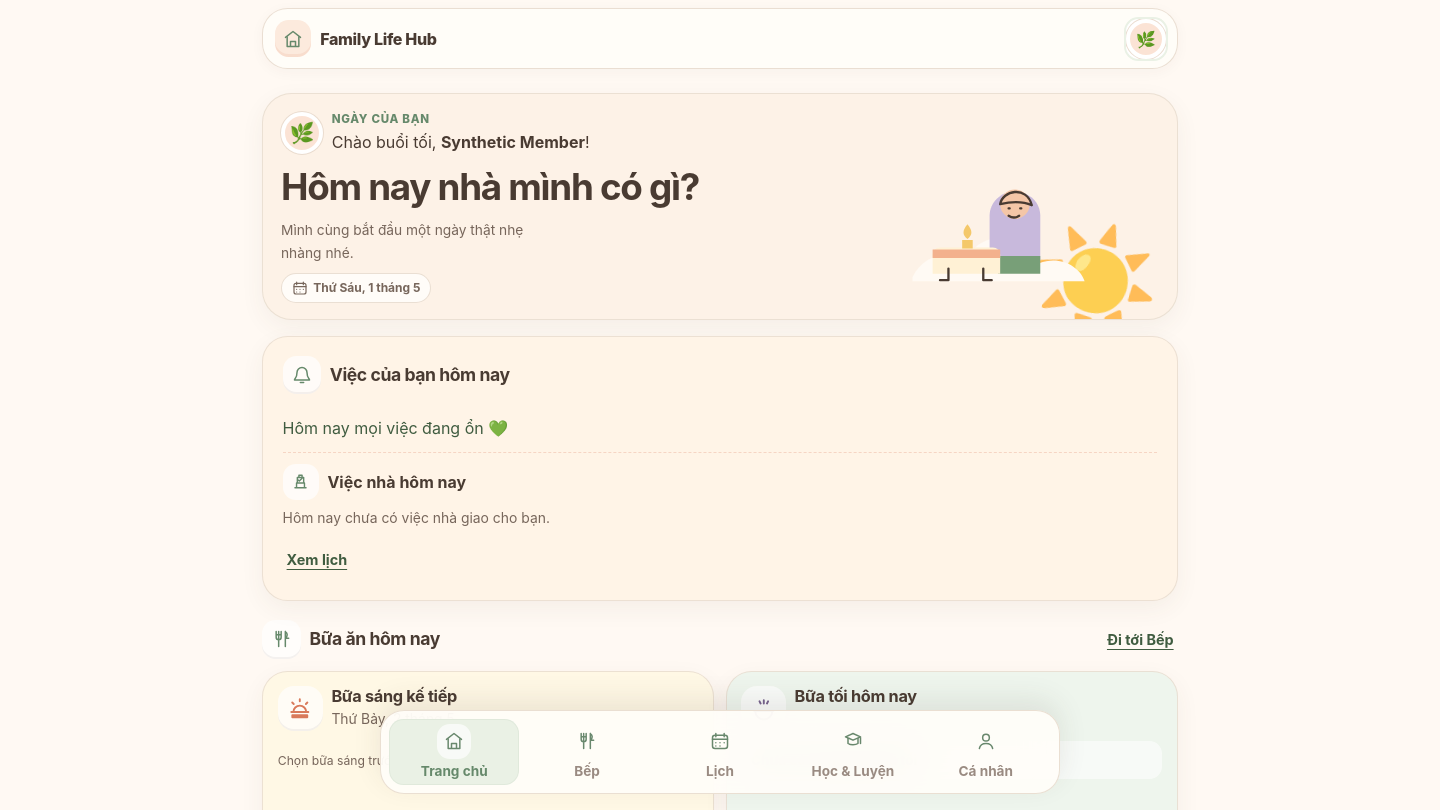
Test: AuthFlow › logs out, clears the in-memory profile, and reloads profile choices
Expected: the heading "Hôm nay nhà mình có gì?" is shown, [281,164,699,209]
Step 1. Click the button "Cá nhân" → click(986, 752), box [920,719,1051,785]
(page scrolled)
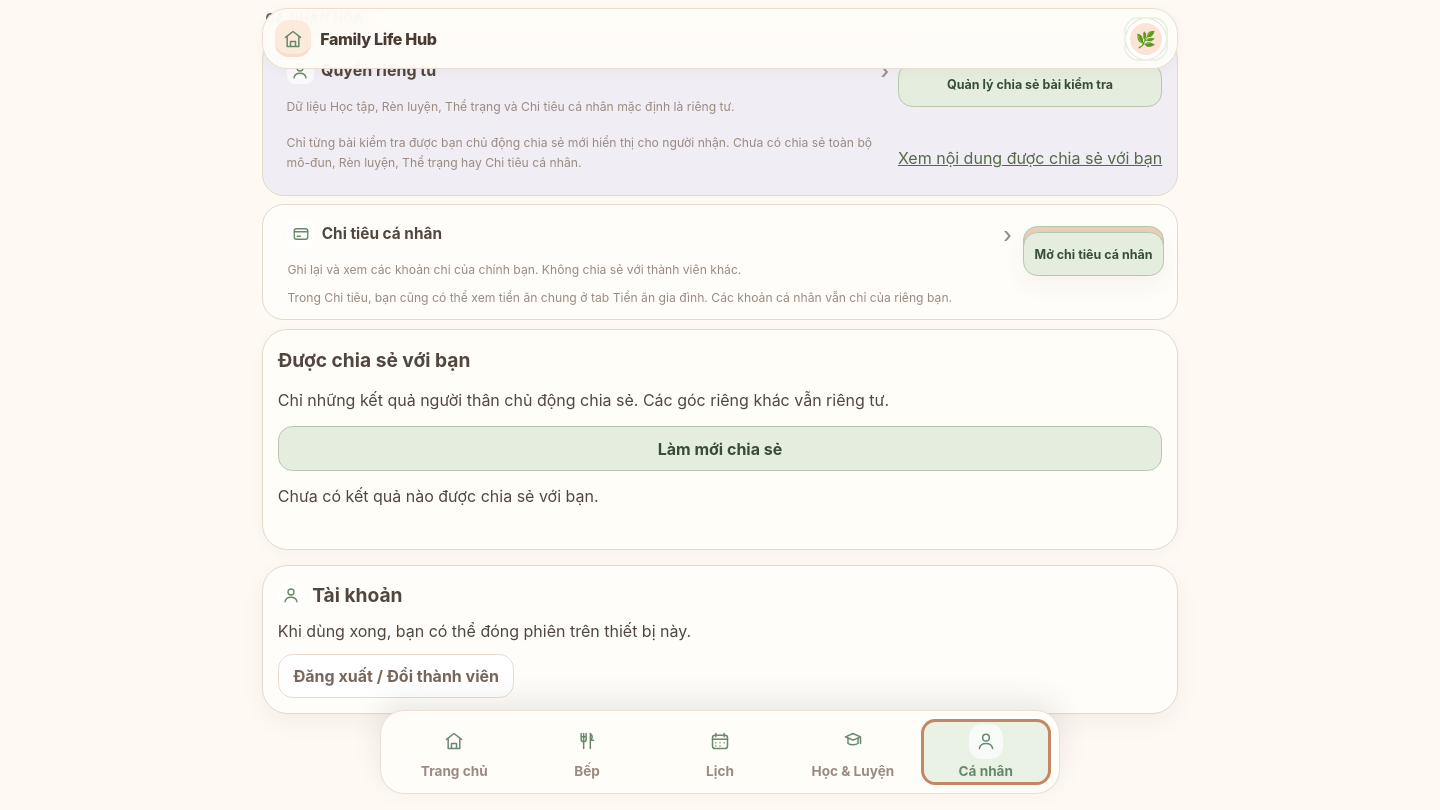
Step 2. Click the button "Đăng xuất / Đổi thành viên" → click(396, 676), box [278,654,514,698]
(page scrolled)
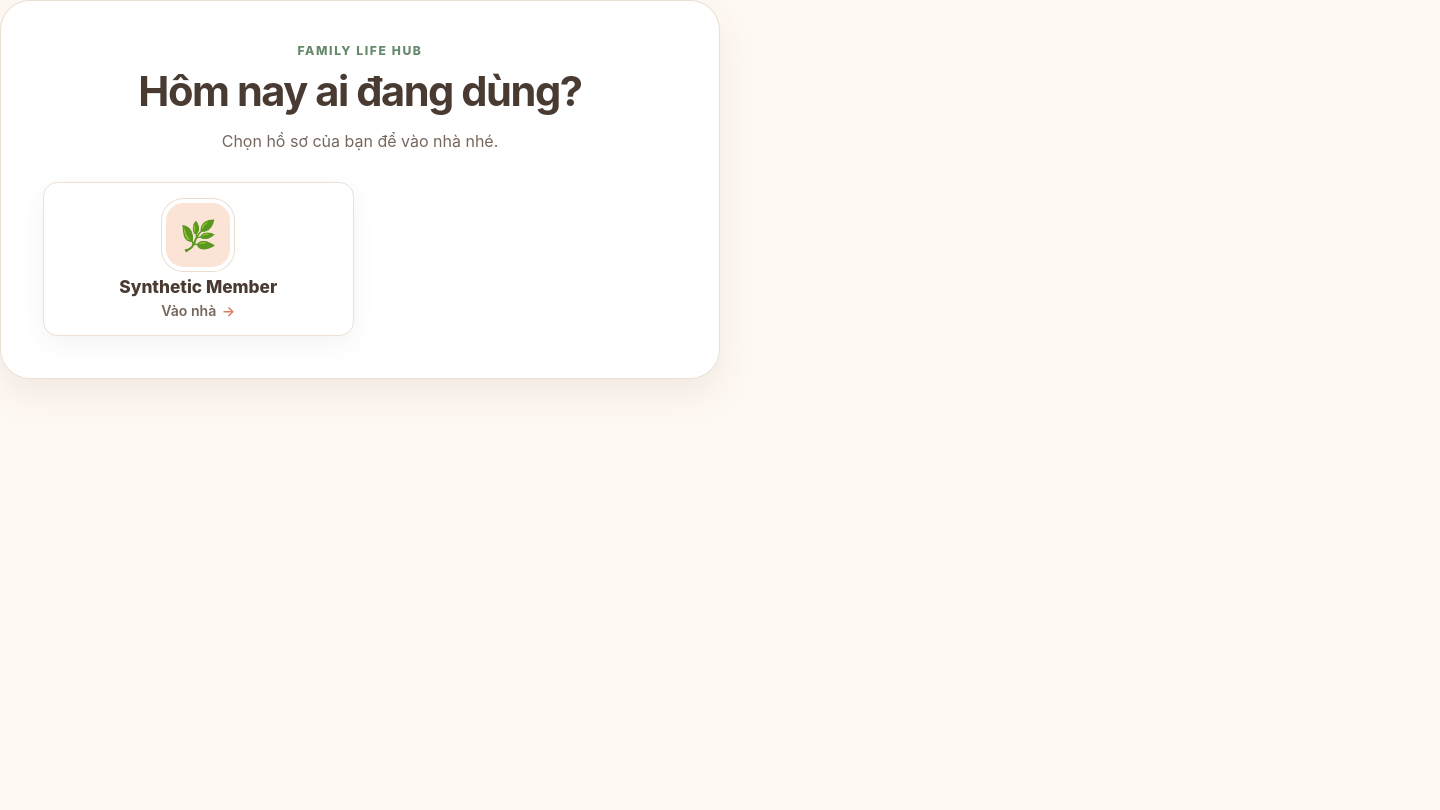
Expected: the heading "Hôm nay ai đang dùng?" is shown, [138,66,582,116]
